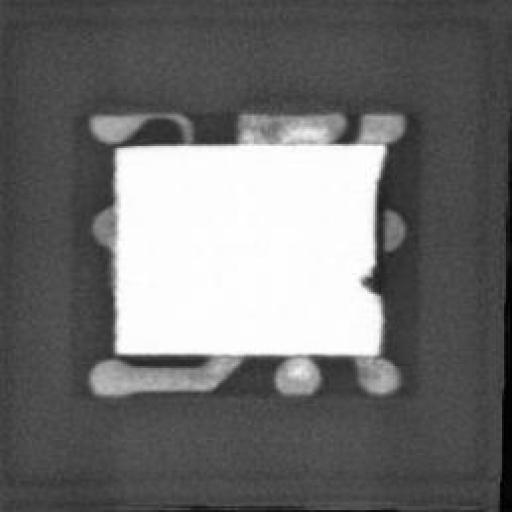DIE_BROKEN: (355, 159, 385, 296)
